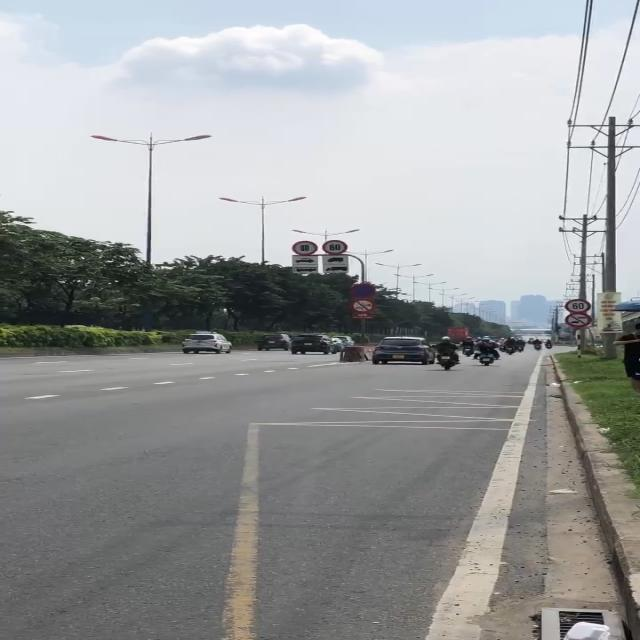Bien bao cam xe oto khach va xe oto tai: (565, 312, 595, 328)
Bien bao toc do toi da cho phep: (319, 239, 349, 255), (291, 240, 318, 255), (564, 298, 592, 312)
